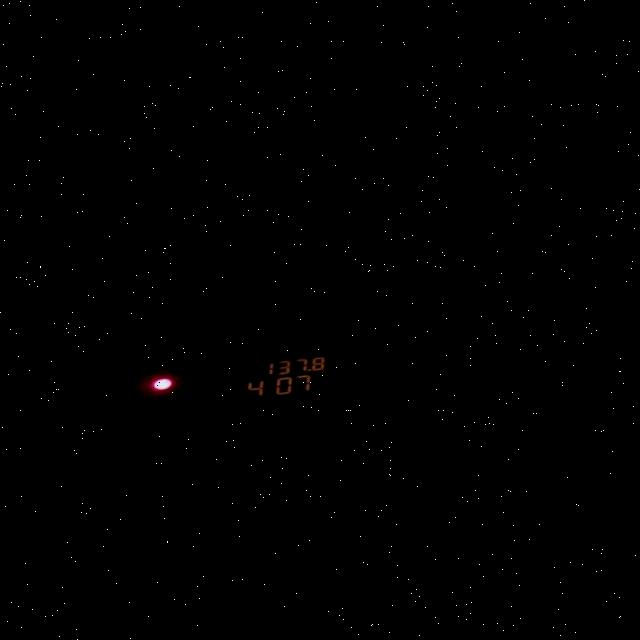odometer: (208, 344, 346, 410)
